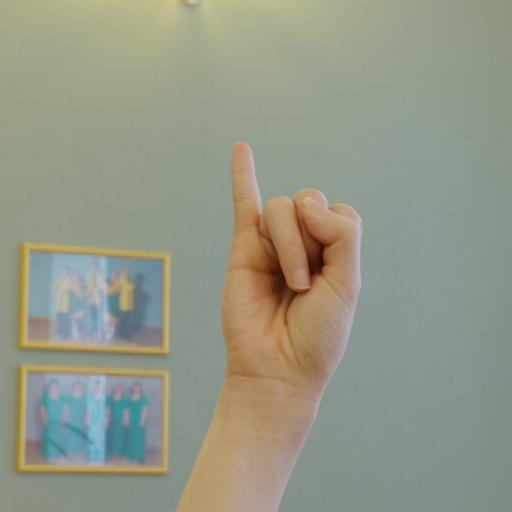I: (216, 138, 363, 386)
